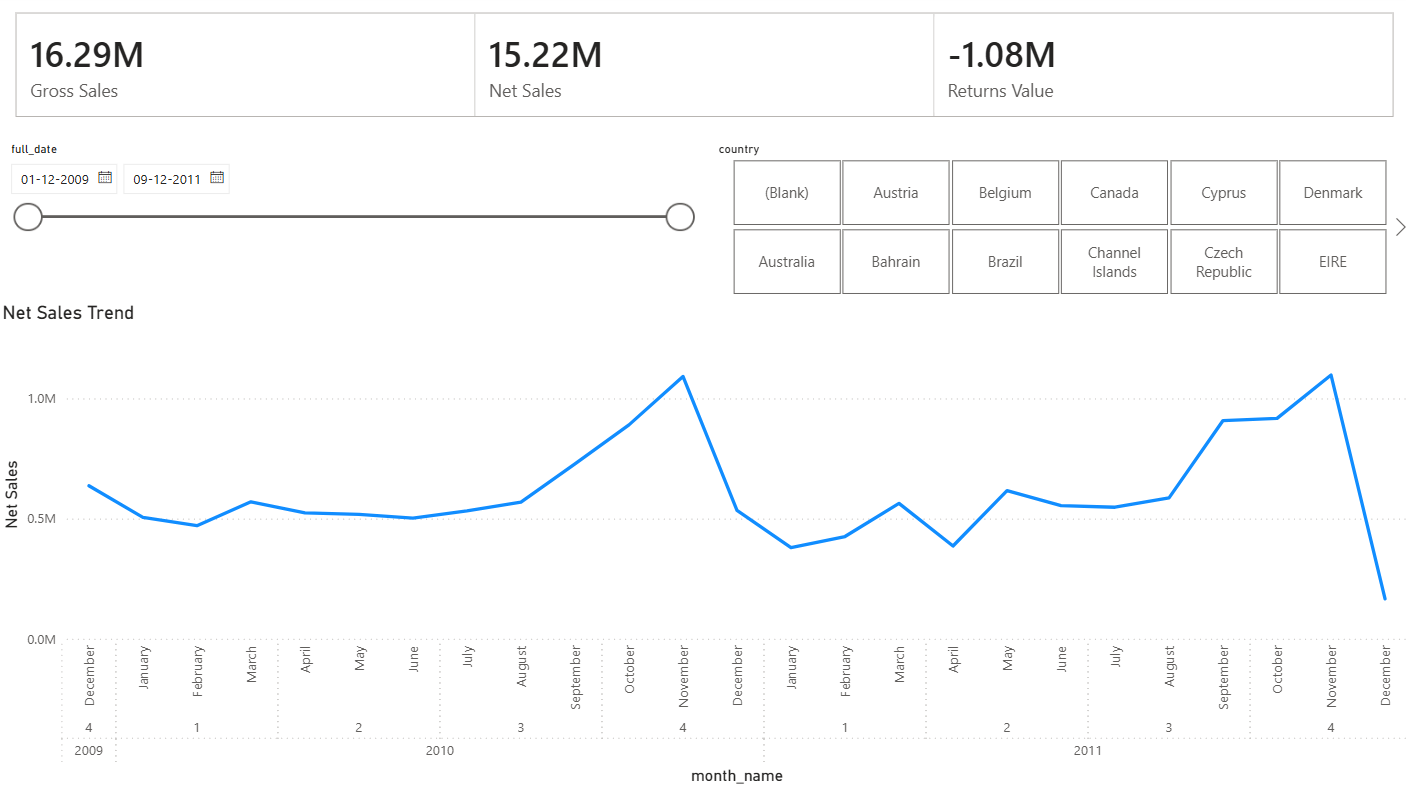

What the dashboard file says about the page in this screenshot:
{"tool":"powerbi","page":{"name":"Sales Overview","canvas":[1280,720],"ordinal":0},"visuals":[{"type":"cardVisual","fields":{"Data":["fact_sales.Gross Sales","fact_sales.Net Sales","fact_sales.Returns Value"]},"box":[0,0,1280.3,129],"z":0},{"type":"lineChart","title":"Net Sales Trend","fields":{"Category":["dim_date.Date Hierarchy.year","dim_date.Date Hierarchy.quarter","dim_date.Date Hierarchy.month_name","dim_date.Date Hierarchy.week_of_year","dim_date.Date Hierarchy.full_date"],"Y":["fact_sales.Net Sales"]},"box":[0,278.6,1280.3,441.9],"z":1000},{"type":"slicer","fields":{"Values":["dim_date.full_date"]},"box":[0,129,639.5,149.6],"z":2000},{"type":"slicer","fields":{"Values":["dim_customer.country"]},"box":[639.5,129,640.8,149.6],"z":3000}]}

Visuals, with their boxes in screenshot pixels (x1, y1, x2, y2), scaled from the page's 1280x720 canvas onto the 1406x787 screenshot:
cardVisual - fact_sales.Gross Sales x fact_sales.Net Sales: [x1=0, y1=0, x2=1405, y2=141]
"Net Sales Trend" lineChart: [x1=0, y1=305, x2=1405, y2=786]
slicer - dim_date.full_date: [x1=0, y1=141, x2=702, y2=305]
slicer - dim_customer.country: [x1=702, y1=141, x2=1405, y2=305]
